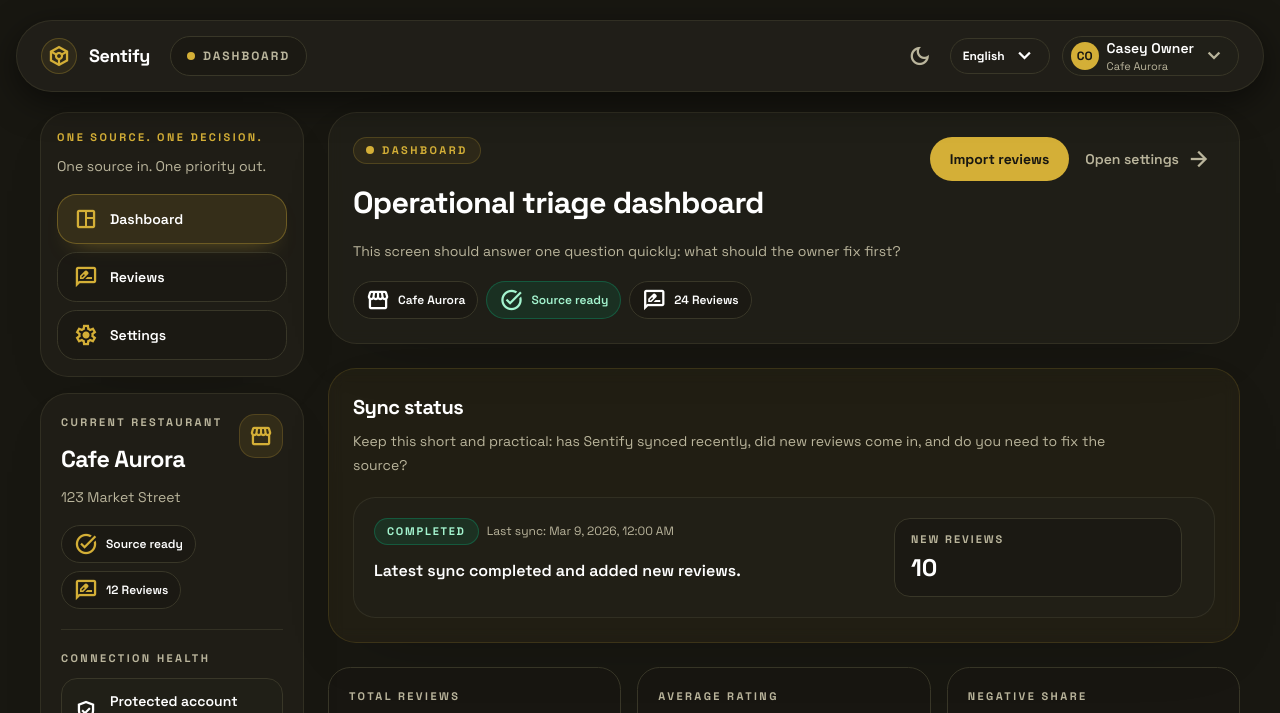
Test: Sentify app shell › renders the authenticated header with avatar menu and closes it on Escape
Expected: the heading "Operational triage dashboard" is shown, x1=353 y1=182 x2=764 y2=222
Click the button with aria-label "open account menu" at (1150, 56), box x1=1062 y1=36 x2=1239 y2=76
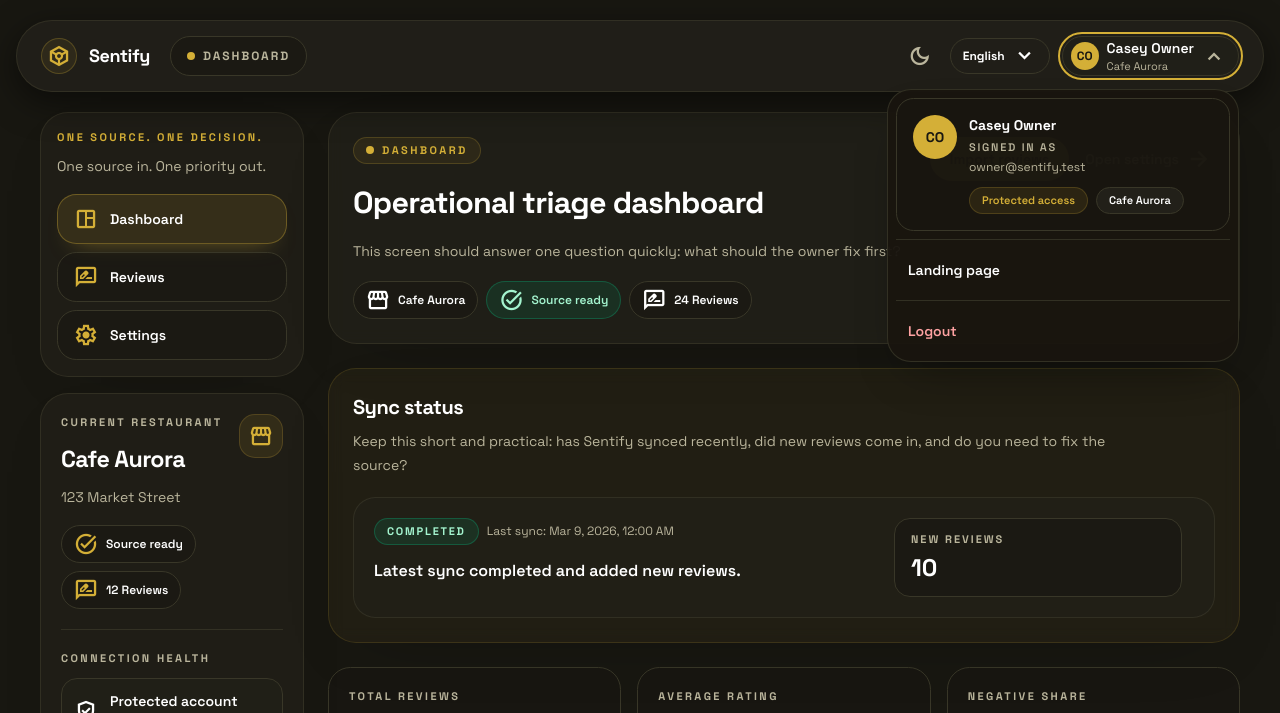
Expected: the button with aria-label "open account menu" is expanded, x1=1062 y1=36 x2=1239 y2=76
Expected: the text "owner@sentify.test" is shown, x1=969 y1=159 x2=1086 y2=175
Expected: the menu item "Landing page" is shown, x1=896 y1=248 x2=1230 y2=292
Press Escape
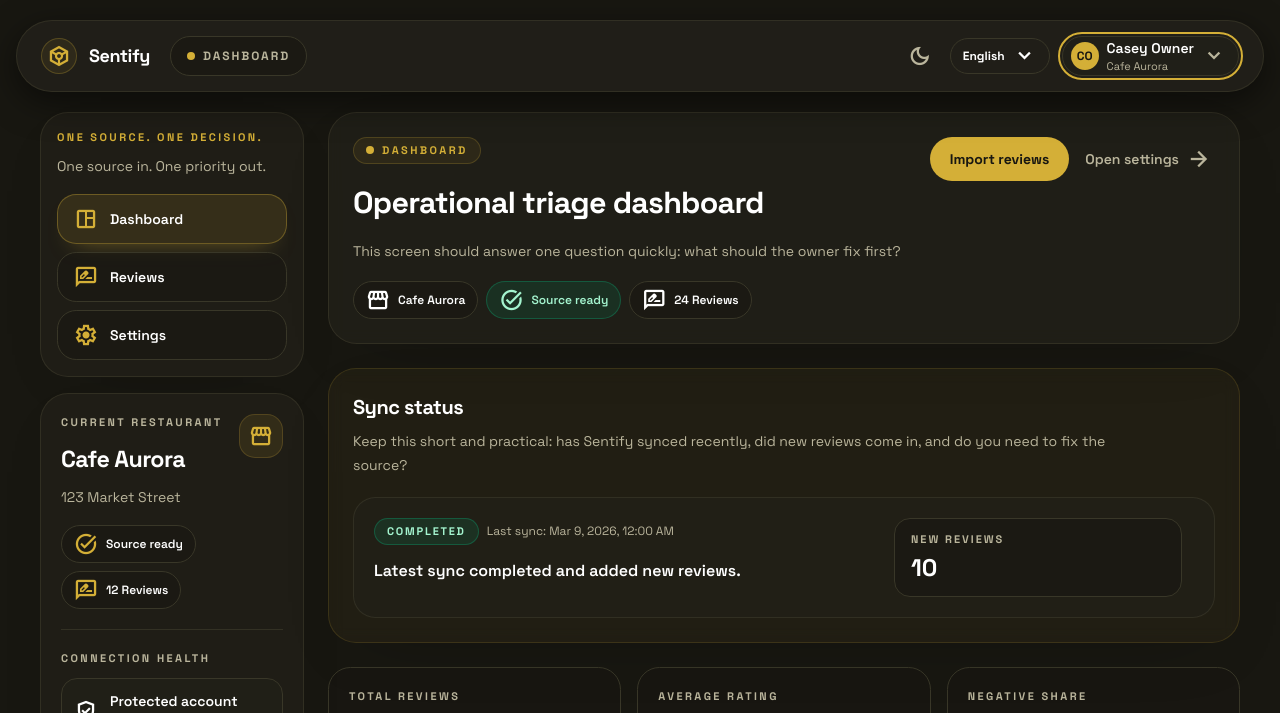
Expected: the button with aria-label "open account menu" is collapsed, x1=1062 y1=36 x2=1239 y2=76
